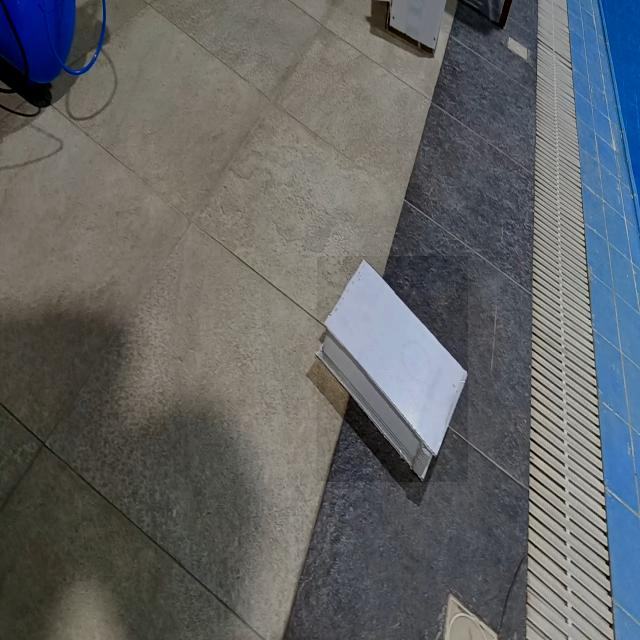Cuboid: (317, 256, 468, 482)
